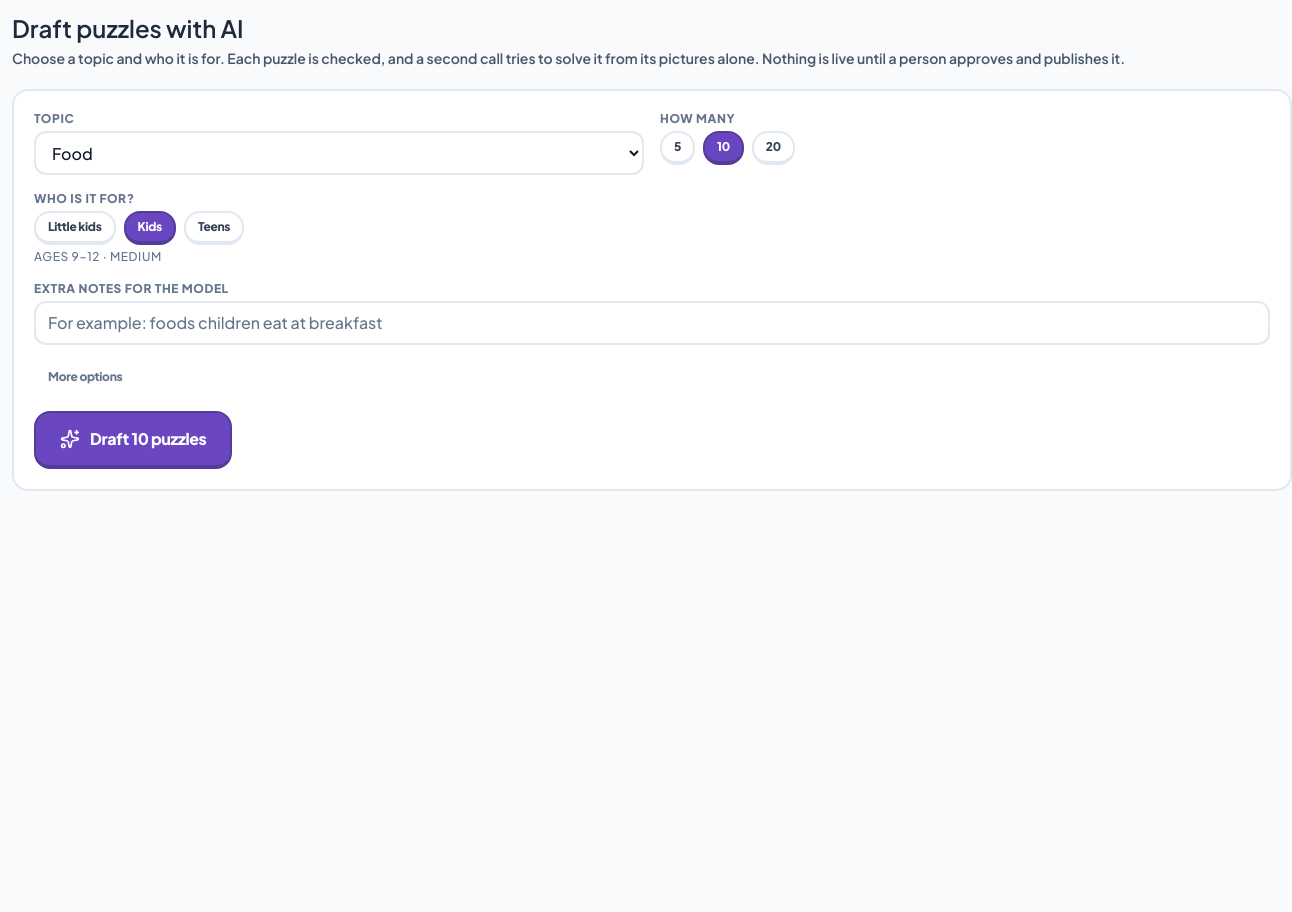
the Generate tab › sends the brief as chosen and shows the drafts with the checks they got
Click the button "Draft 10 puzzles" at {"x": 133, "y": 440}, box [34,411,232,469]
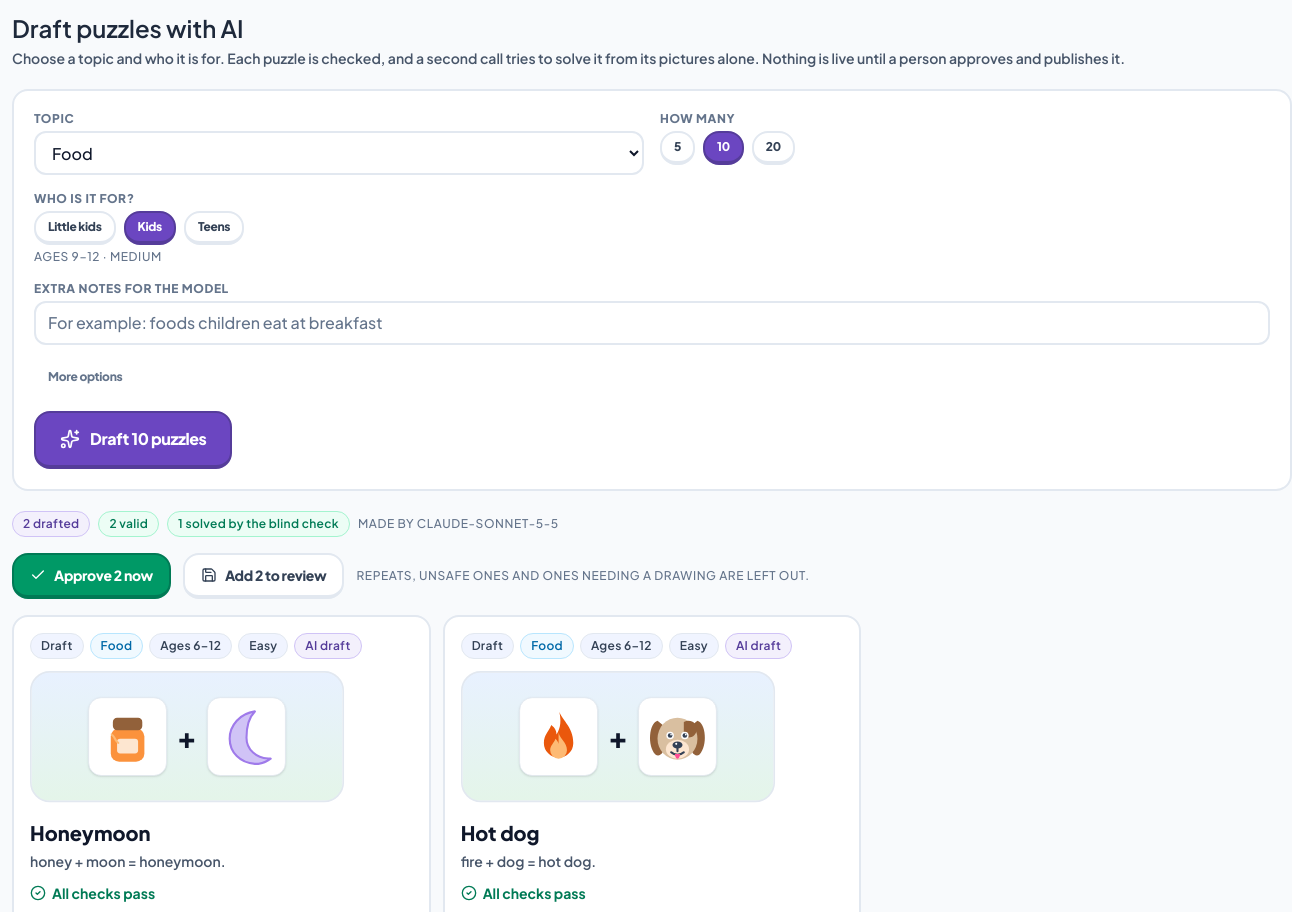
Expected: the text "2 drafted" is shown, [12,511,90,537]
Expected: the text "1 solved by the blind check" is shown, [167,511,350,537]
Expected: the text "Made by claude-sonnet-5-5" is shown, [358,516,559,532]
